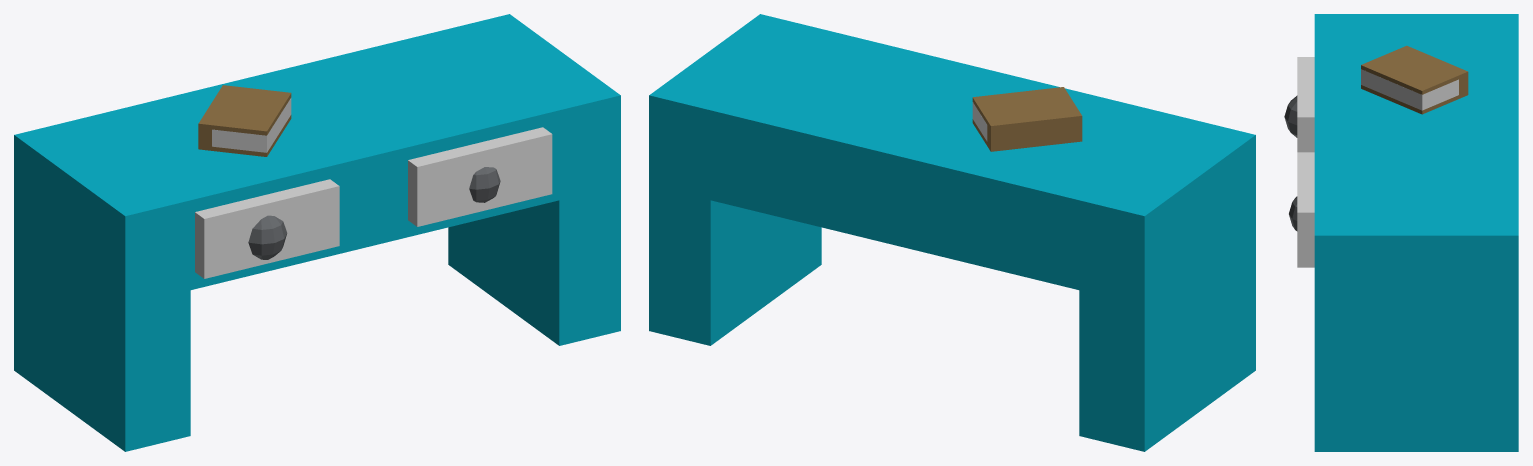
File: drawer.glb
The picture shows the model from 3 angles, left to right: view 1: azimuth 30°, elevation 25°; view 2: azimuth 150°, elevation 25°; view 3: azimuth 270°, elevation 25°; orthographic projection. The views are drawn at different scales.
Parts seen in each view (by area): view 1: Mesh_Mesh_head_geo.001_lambert2SG.001; view 2: Mesh_Mesh_head_geo.001_lambert2SG.001; view 3: Mesh_Mesh_head_geo.001_lambert2SG.001.
Boxes of the visible parts, x1,y1,x2,y2 form: Mesh_Mesh_head_geo.001_lambert2SG.001: [14, 14, 620, 451]; Mesh_Mesh_head_geo.001_lambert2SG.001: [649, 14, 1255, 451]; Mesh_Mesh_head_geo.001_lambert2SG.001: [1284, 14, 1518, 451].
Bounding box in the file's own units: 121 × 61 × 54.
